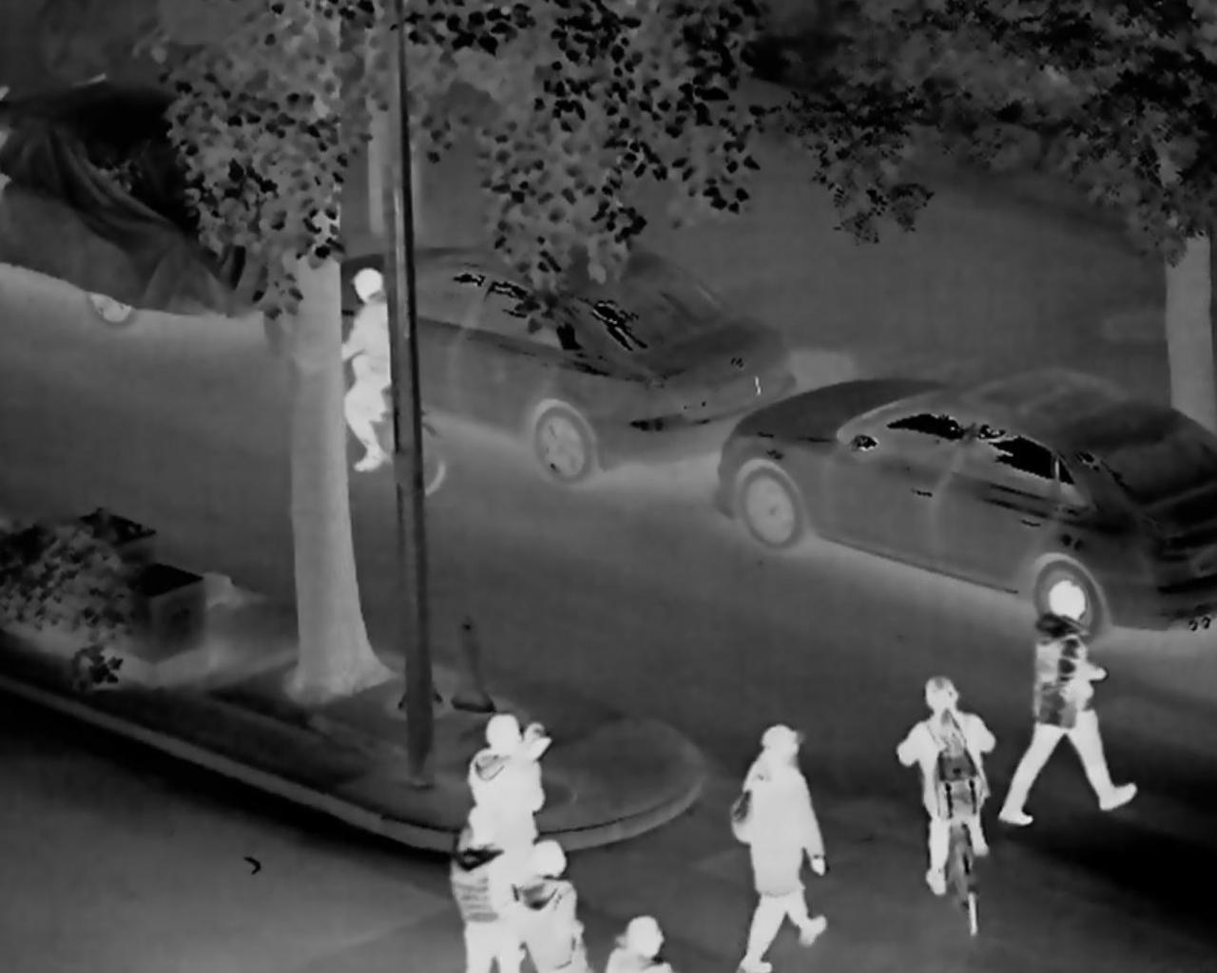person: (996, 575, 1137, 833), (898, 666, 999, 951), (735, 725, 838, 972), (323, 260, 401, 470), (466, 707, 560, 856), (450, 811, 523, 973), (520, 839, 604, 973), (604, 907, 678, 973)
